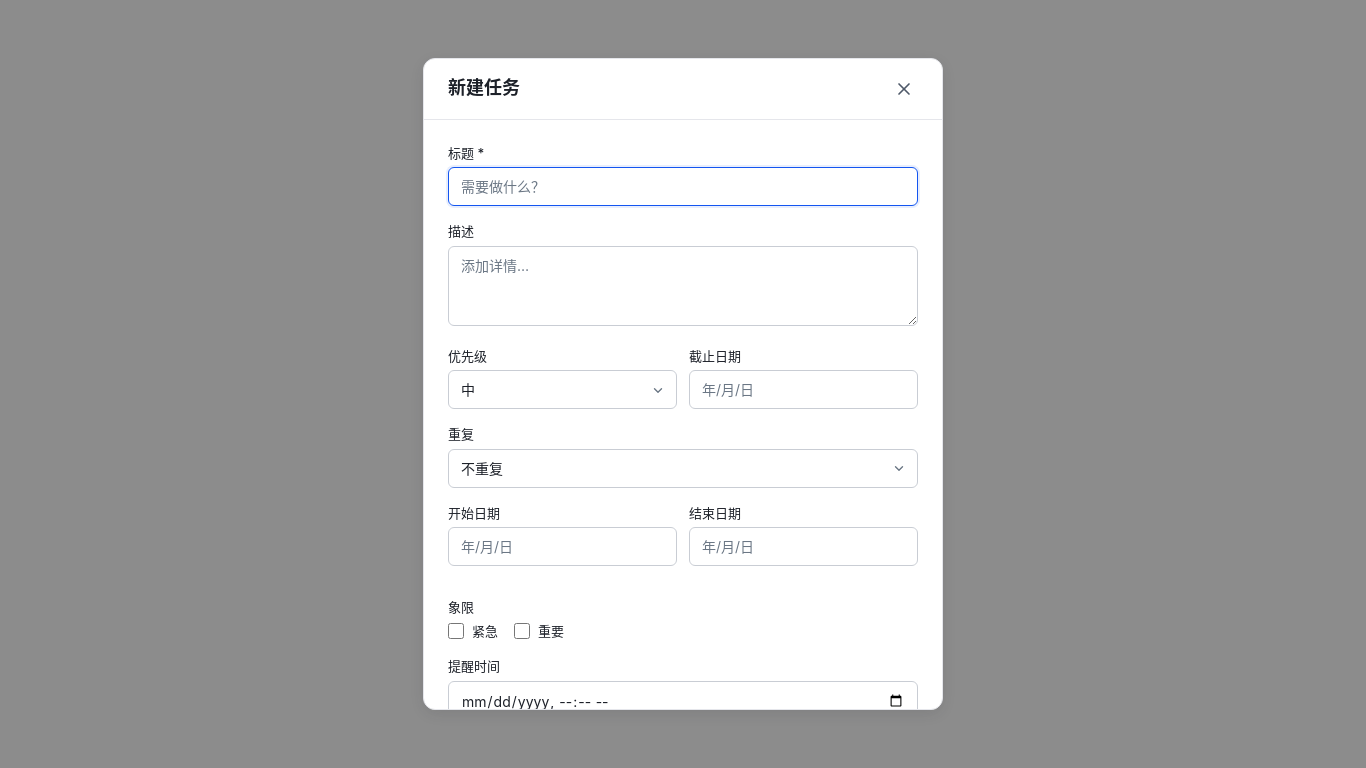
TaskForm › new fields rendering › shows recurrence end date when recurrence is selected
The image size is (1366, 768).
Select "每天" in the dropdown with test id "task-form-recurrence" at [683, 468], box 448,449 -> 918,488
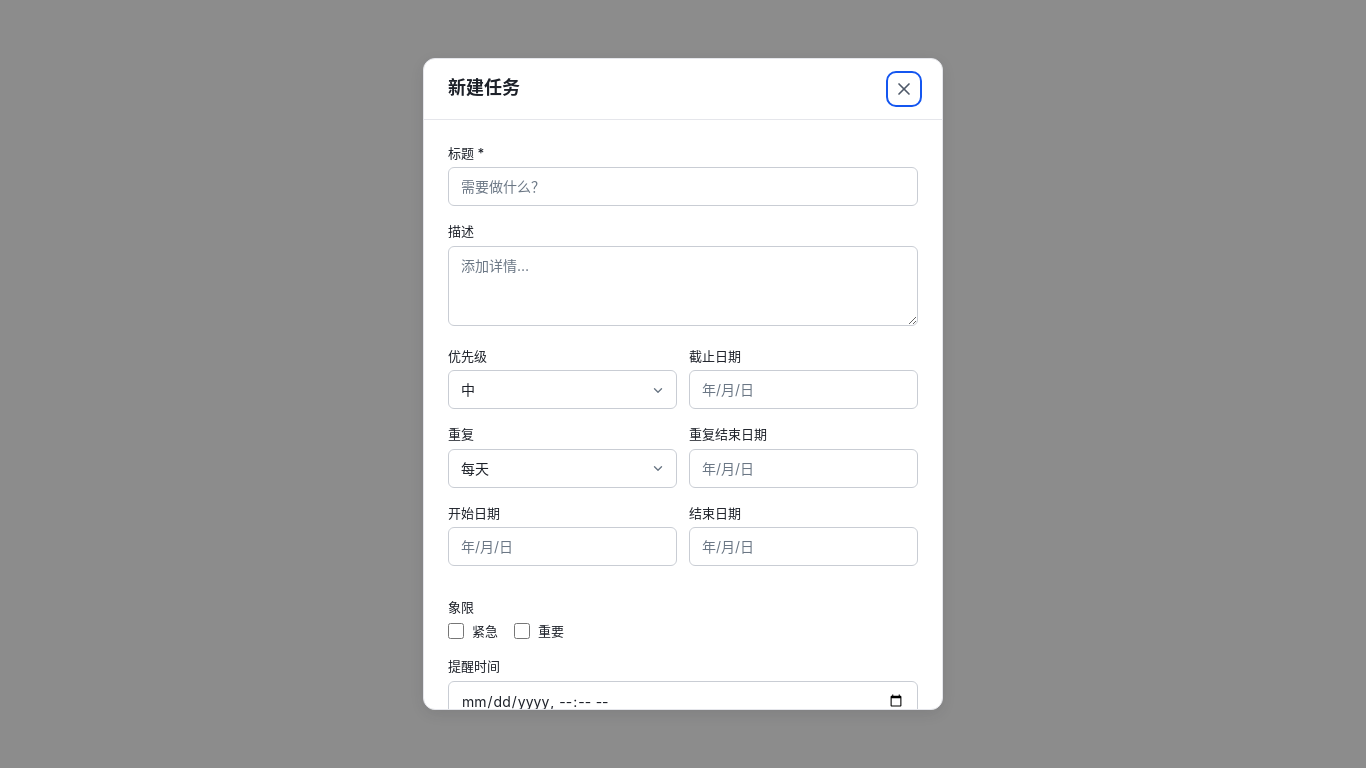
Expected: the date field with test id "task-form-recurrence-end-date" is shown, 689,426 -> 767,442
